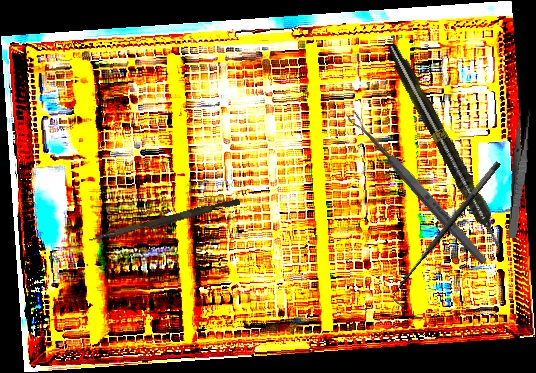Dressing Forceps: (506, 107, 533, 239)
Handpiece: (382, 40, 510, 257)
Hook Surgical: (385, 159, 512, 308)
Pusher: (88, 194, 241, 248)
Surgical Spoon: (345, 109, 490, 267)
